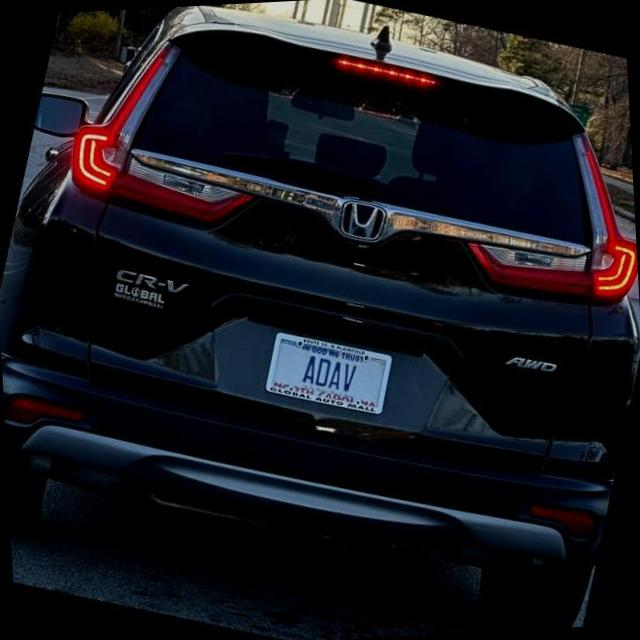LicensePlate: (262, 331, 393, 416)
